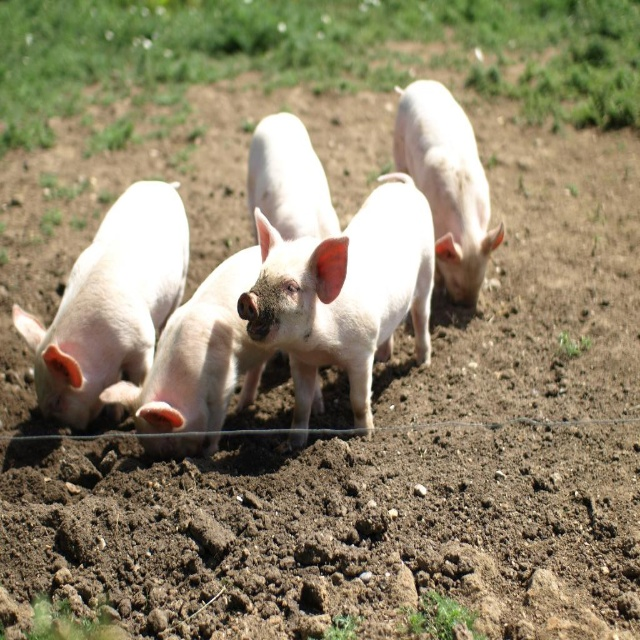Pig: (11, 79, 506, 465)
